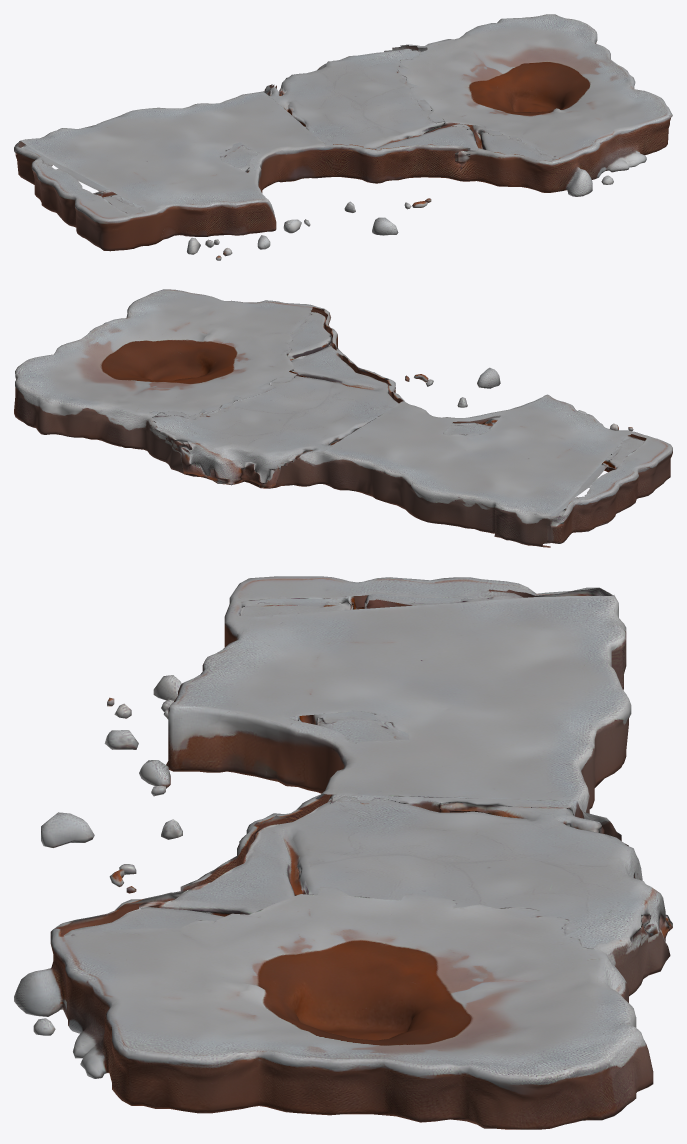
The model's file is debris_concrete_2.glb.
The picture shows the model from 3 angles, top to bottom: view 1: azimuth 30°, elevation 25°; view 2: azimuth 150°, elevation 25°; view 3: azimuth 270°, elevation 25°; orthographic projection. The views are drawn at different scales.
Size of the model in its own units: 1.9 by 0.1135 by 1.05.
1 material, 1 textured.
